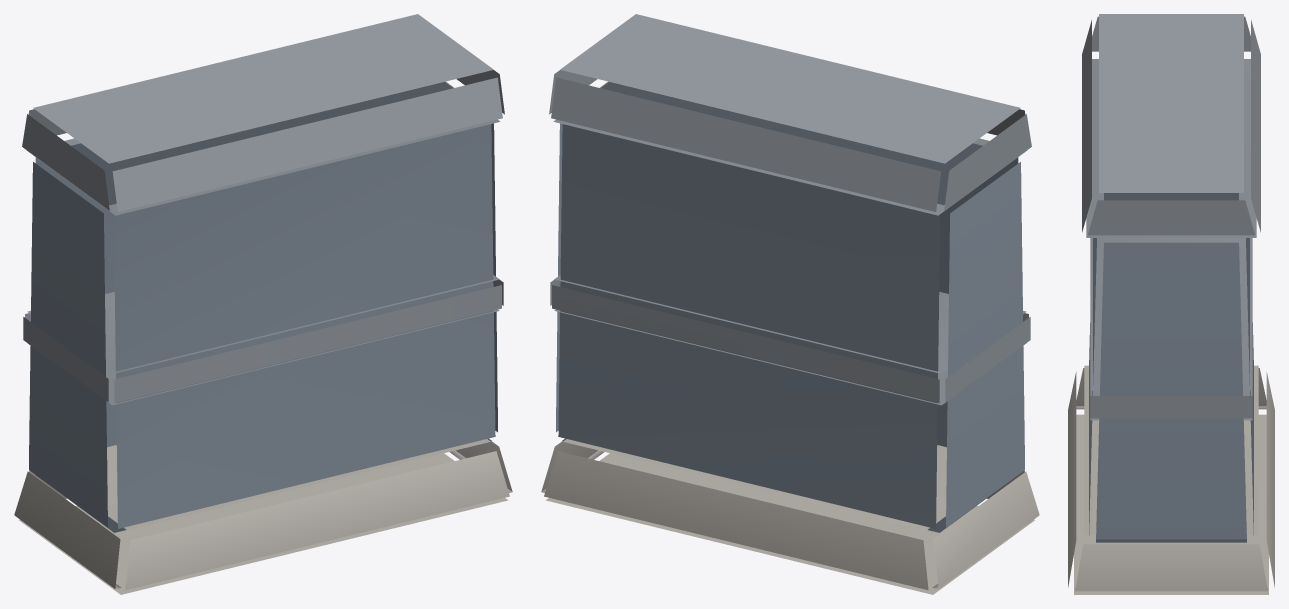
File: wall_lv2_connector_lod2.glb
3 views of the same model, side by side, from view 1: azimuth 30°, elevation 25°; view 2: azimuth 150°, elevation 25°; view 3: azimuth 270°, elevation 25° (orthographic). The views are drawn at different scales.
Visible parts, largest first — view 1: wall_lv2_connector.001; view 2: wall_lv2_connector.001; view 3: wall_lv2_connector.001.
Part boxes in pixels (bbox=[...]): wall_lv2_connector.001: bbox=[14, 14, 512, 594]; wall_lv2_connector.001: bbox=[541, 14, 1039, 594]; wall_lv2_connector.001: bbox=[1068, 14, 1274, 594].
Bounding box in the file's own units: 1.59 × 1.61 × 0.7515.
